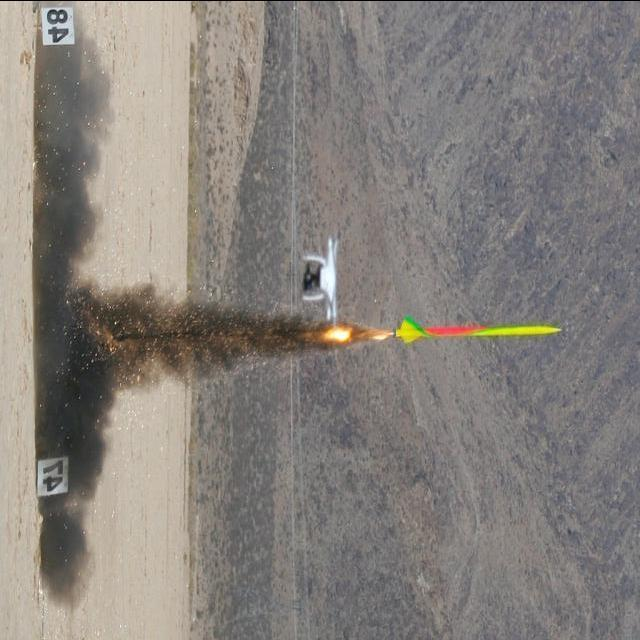missile: (368, 308, 562, 348)
